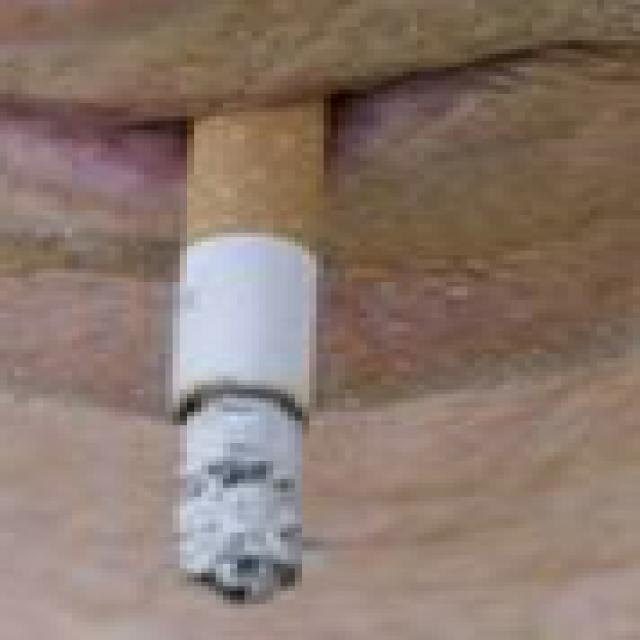smoking: (184, 112, 314, 600)
